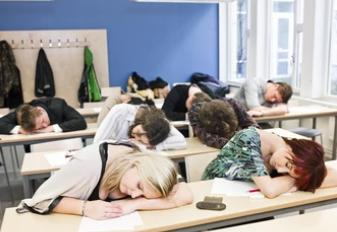sleep: (25, 140, 195, 215), (209, 126, 325, 197), (89, 104, 186, 151), (0, 97, 86, 135), (189, 99, 257, 138), (161, 81, 222, 118), (231, 78, 288, 117)
